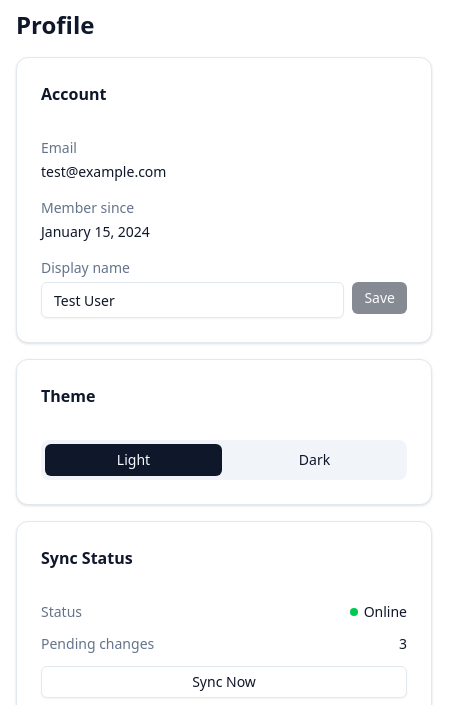
Test case: Profile › save button enables when display name is changed
The width and height of the screenshot is (449, 705).
Replace the text in the field showing "Test User" with "New Name" at (193, 300), box [41,282,344,318]
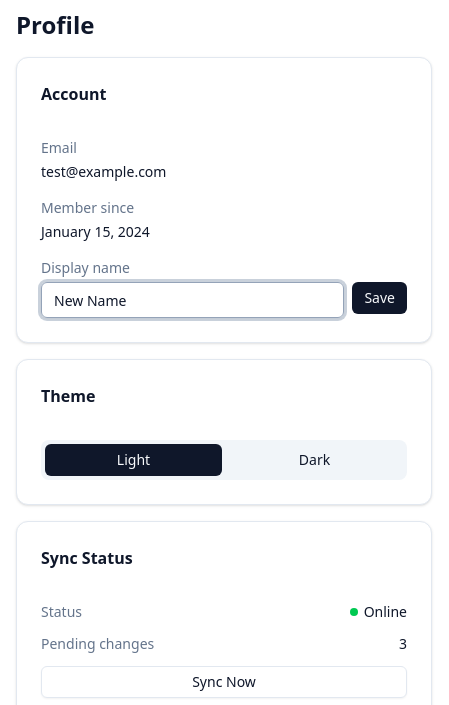
Now the button "Save" is enabled, box [352,282,407,314]
